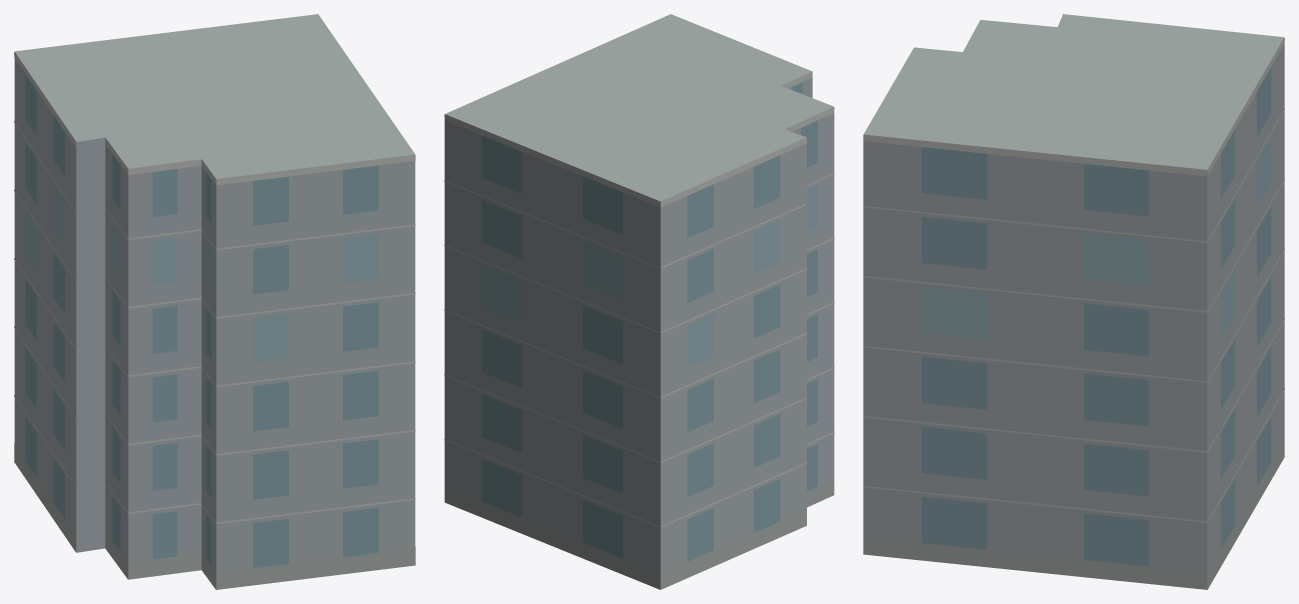
Rendered from survey-upis-32984656.glb.
The picture shows the model from 3 angles, left to right: view 1: azimuth 30°, elevation 25°; view 2: azimuth 150°, elevation 25°; view 3: azimuth 270°, elevation 25°; orthographic projection. The views are drawn at different scales.
Parts seen in each view (by area): view 1: survey-upis-32984656.tmp; view 2: survey-upis-32984656.tmp; view 3: survey-upis-32984656.tmp.
Boxes of the visible parts, bbox=[...] form: survey-upis-32984656.tmp: bbox=[14, 14, 415, 589]; survey-upis-32984656.tmp: bbox=[444, 14, 834, 589]; survey-upis-32984656.tmp: bbox=[863, 14, 1284, 589].
Size of the model in its own units: 12.36 by 15.5 by 14.11.
